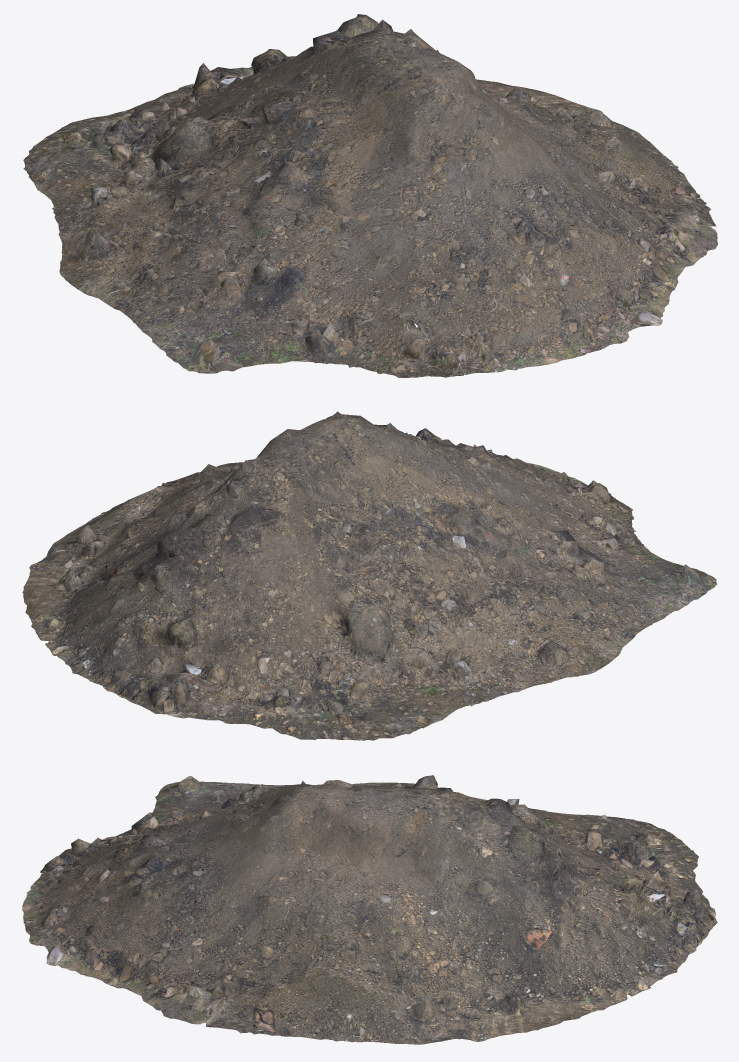
Rendered from Pile of Mixed Soil.fbx.
The picture shows the model from 3 angles, top to bottom: view 1: azimuth 30°, elevation 25°; view 2: azimuth 150°, elevation 25°; view 3: azimuth 270°, elevation 25°; orthographic projection. The views are drawn at different scales.
Visible parts, largest first — view 1: Pile of Mixed Soil; view 2: Pile of Mixed Soil; view 3: Pile of Mixed Soil.
Part boxes in pixels (x1,y1,x2,y2): Pile of Mixed Soil: (23, 14, 717, 377); Pile of Mixed Soil: (22, 411, 717, 740); Pile of Mixed Soil: (22, 775, 717, 1044).
Bounding box in the file's own units: 445 × 111 × 499.
1 material, 1 textured.
